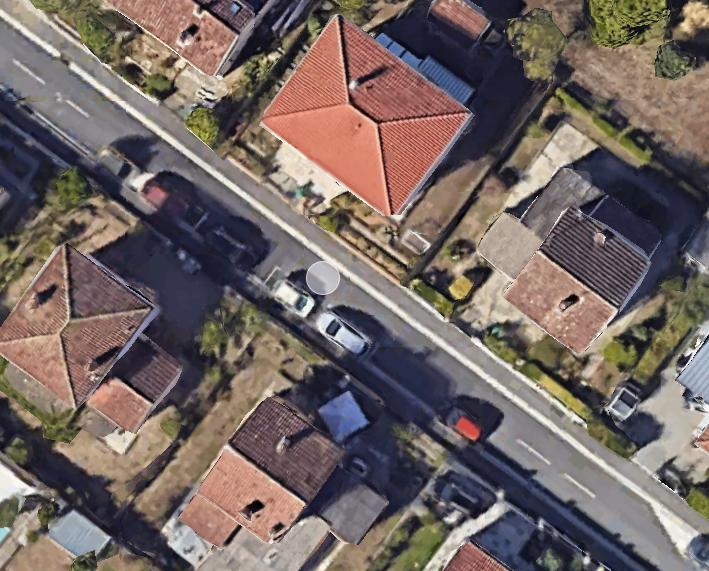maison: (256, 12, 478, 225), (460, 147, 674, 359), (0, 236, 206, 452), (176, 387, 351, 571), (108, 0, 262, 76), (443, 540, 509, 570)
